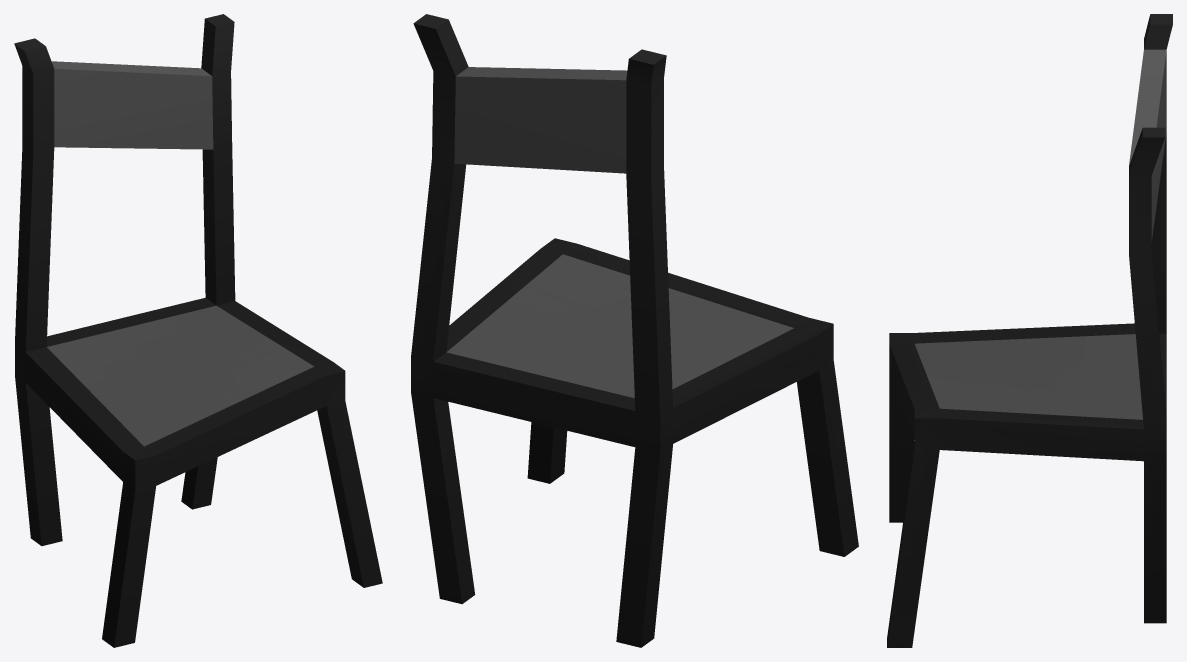
The model's file is sedia_nera.fbx.
The picture shows the model from 3 angles, left to right: view 1: azimuth 30°, elevation 25°; view 2: azimuth 150°, elevation 25°; view 3: azimuth 270°, elevation 25°; orthographic projection. The views are drawn at different scales.
Visible parts, largest first — view 1: SM_sedia; view 2: SM_sedia; view 3: SM_sedia.
Part boxes in pixels (x1=…): SM_sedia: x1=14, y1=14, x2=382, y2=647; SM_sedia: x1=411, y1=14, x2=858, y2=647; SM_sedia: x1=887, y1=14, x2=1172, y2=647.
Bounding box in the file's own units: 126 × 222 × 112.
